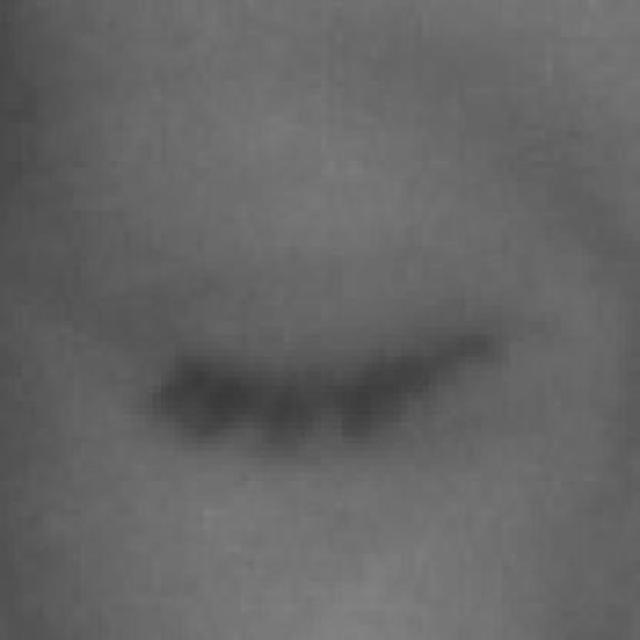drowsy: (155, 204, 499, 556)
